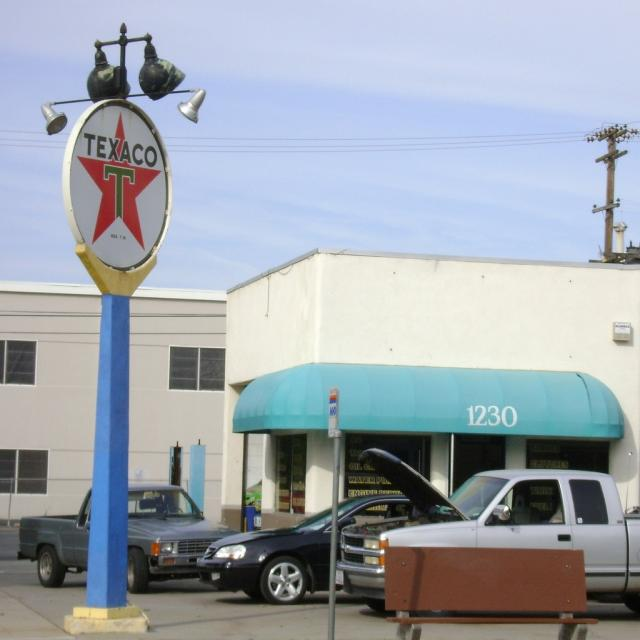texaco: (71, 104, 170, 270)
